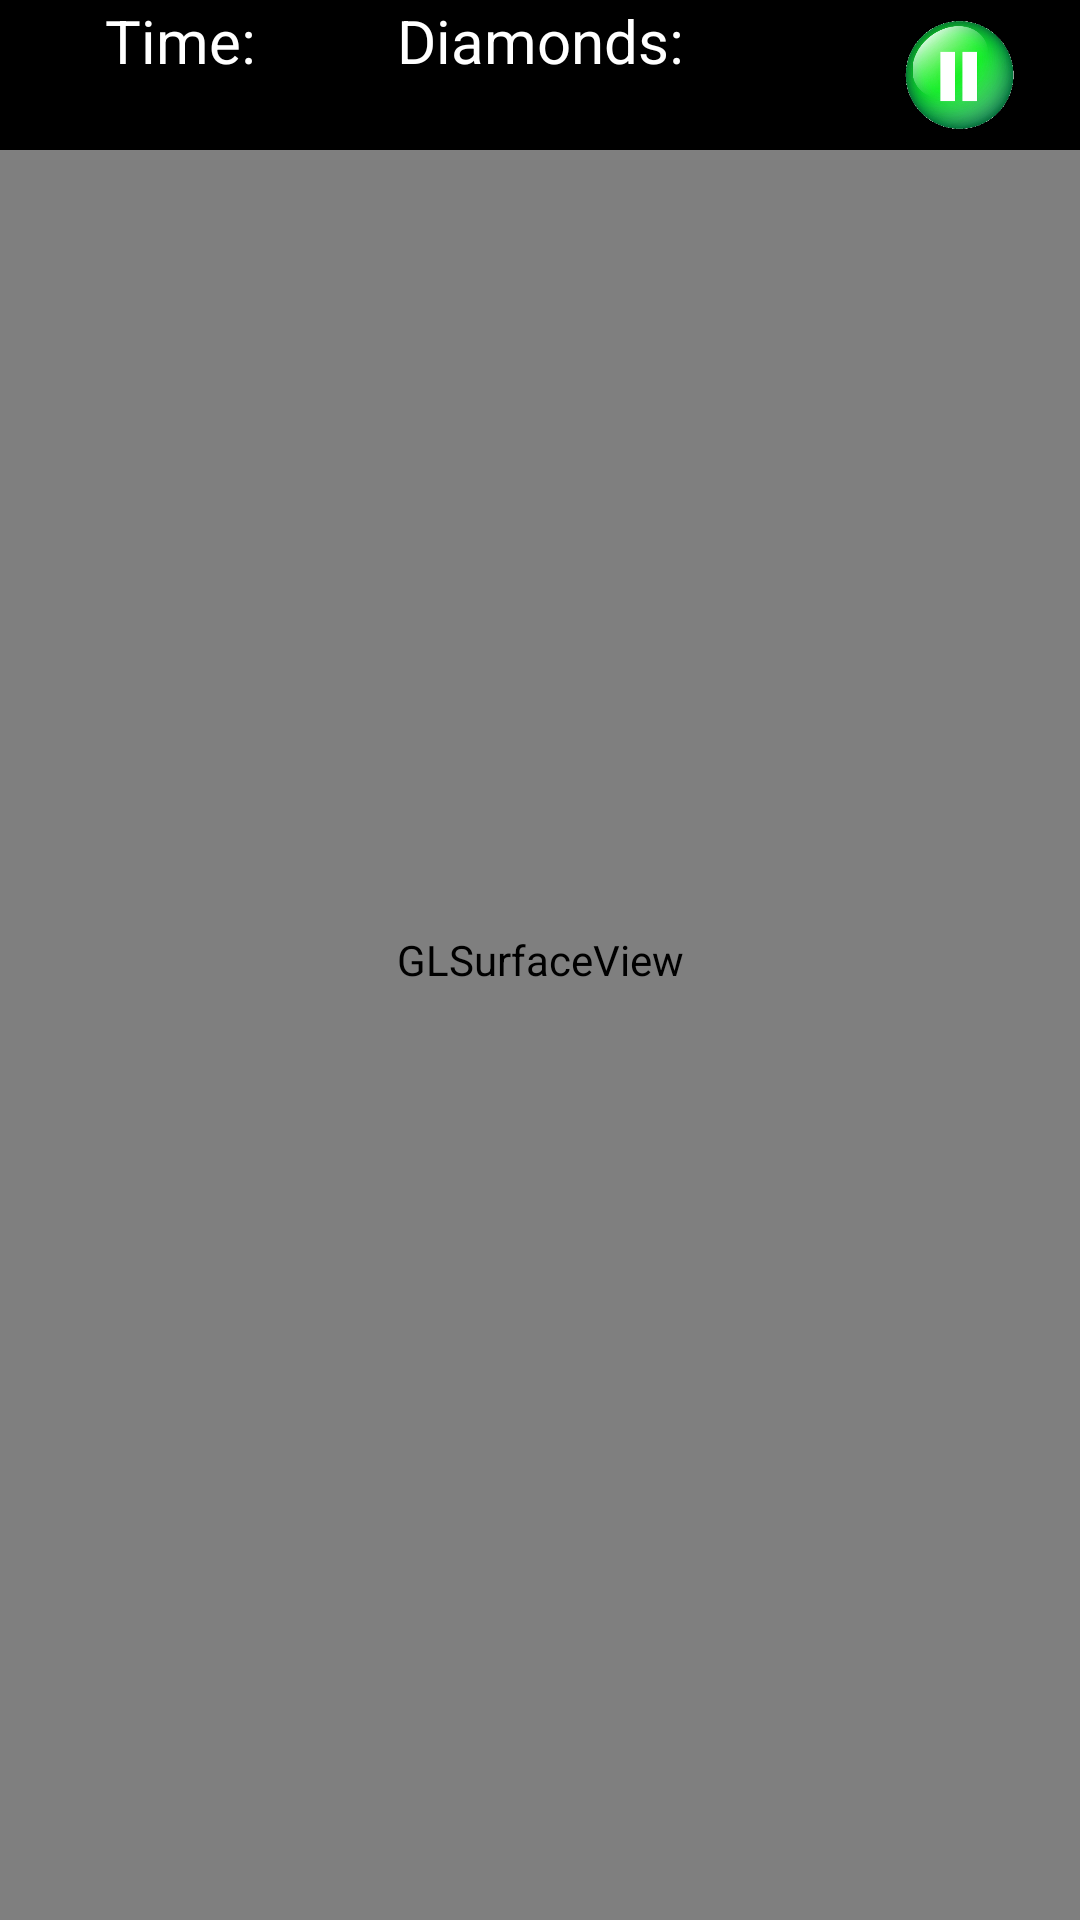

Icons on this 1080px×1920px Android screen, each with its box as [left=x1, top=y1, right=x2, bottom=y2]:
pause: [left=905, top=21, right=1014, bottom=129]
